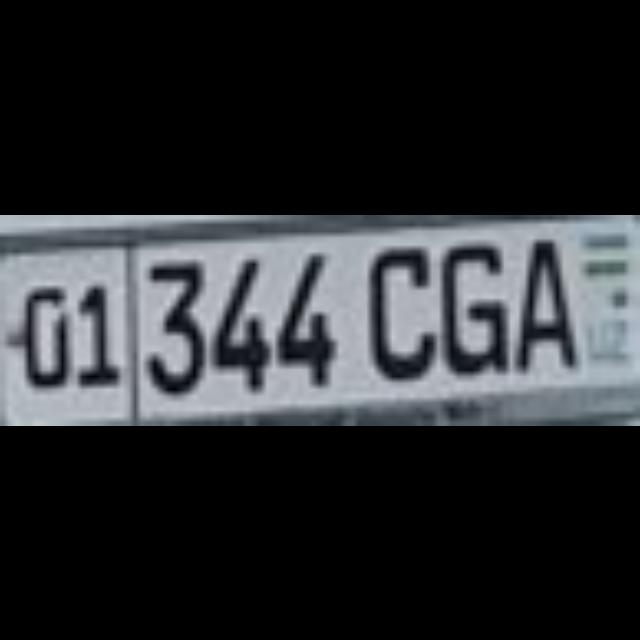0: (13, 273, 59, 379)
1: (72, 274, 112, 372)
3: (138, 254, 198, 386)
4: (204, 247, 264, 386), (270, 247, 330, 379)
A: (508, 227, 574, 366)
C: (363, 240, 429, 372)
G: (435, 234, 501, 366)
